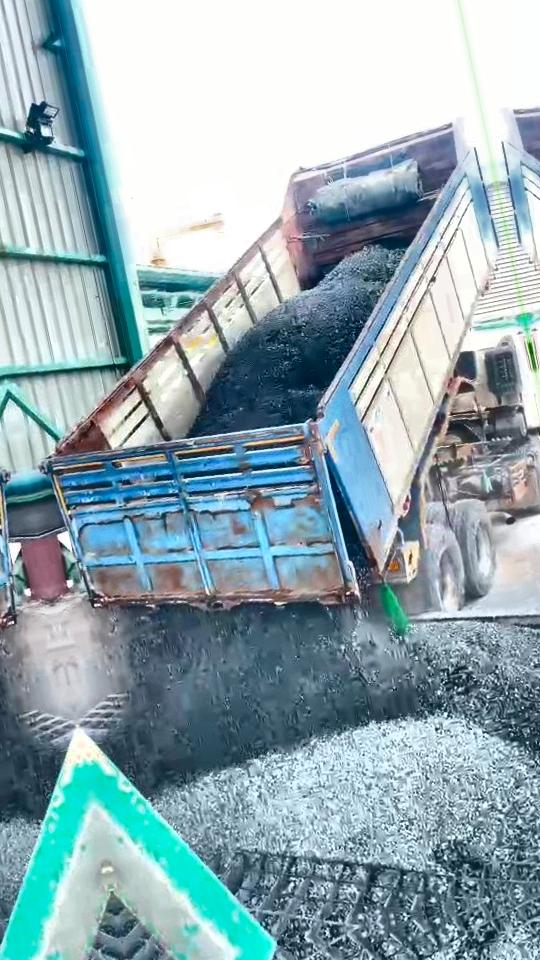gravel: (103, 605, 540, 870), (189, 244, 403, 436), (332, 480, 368, 587)
